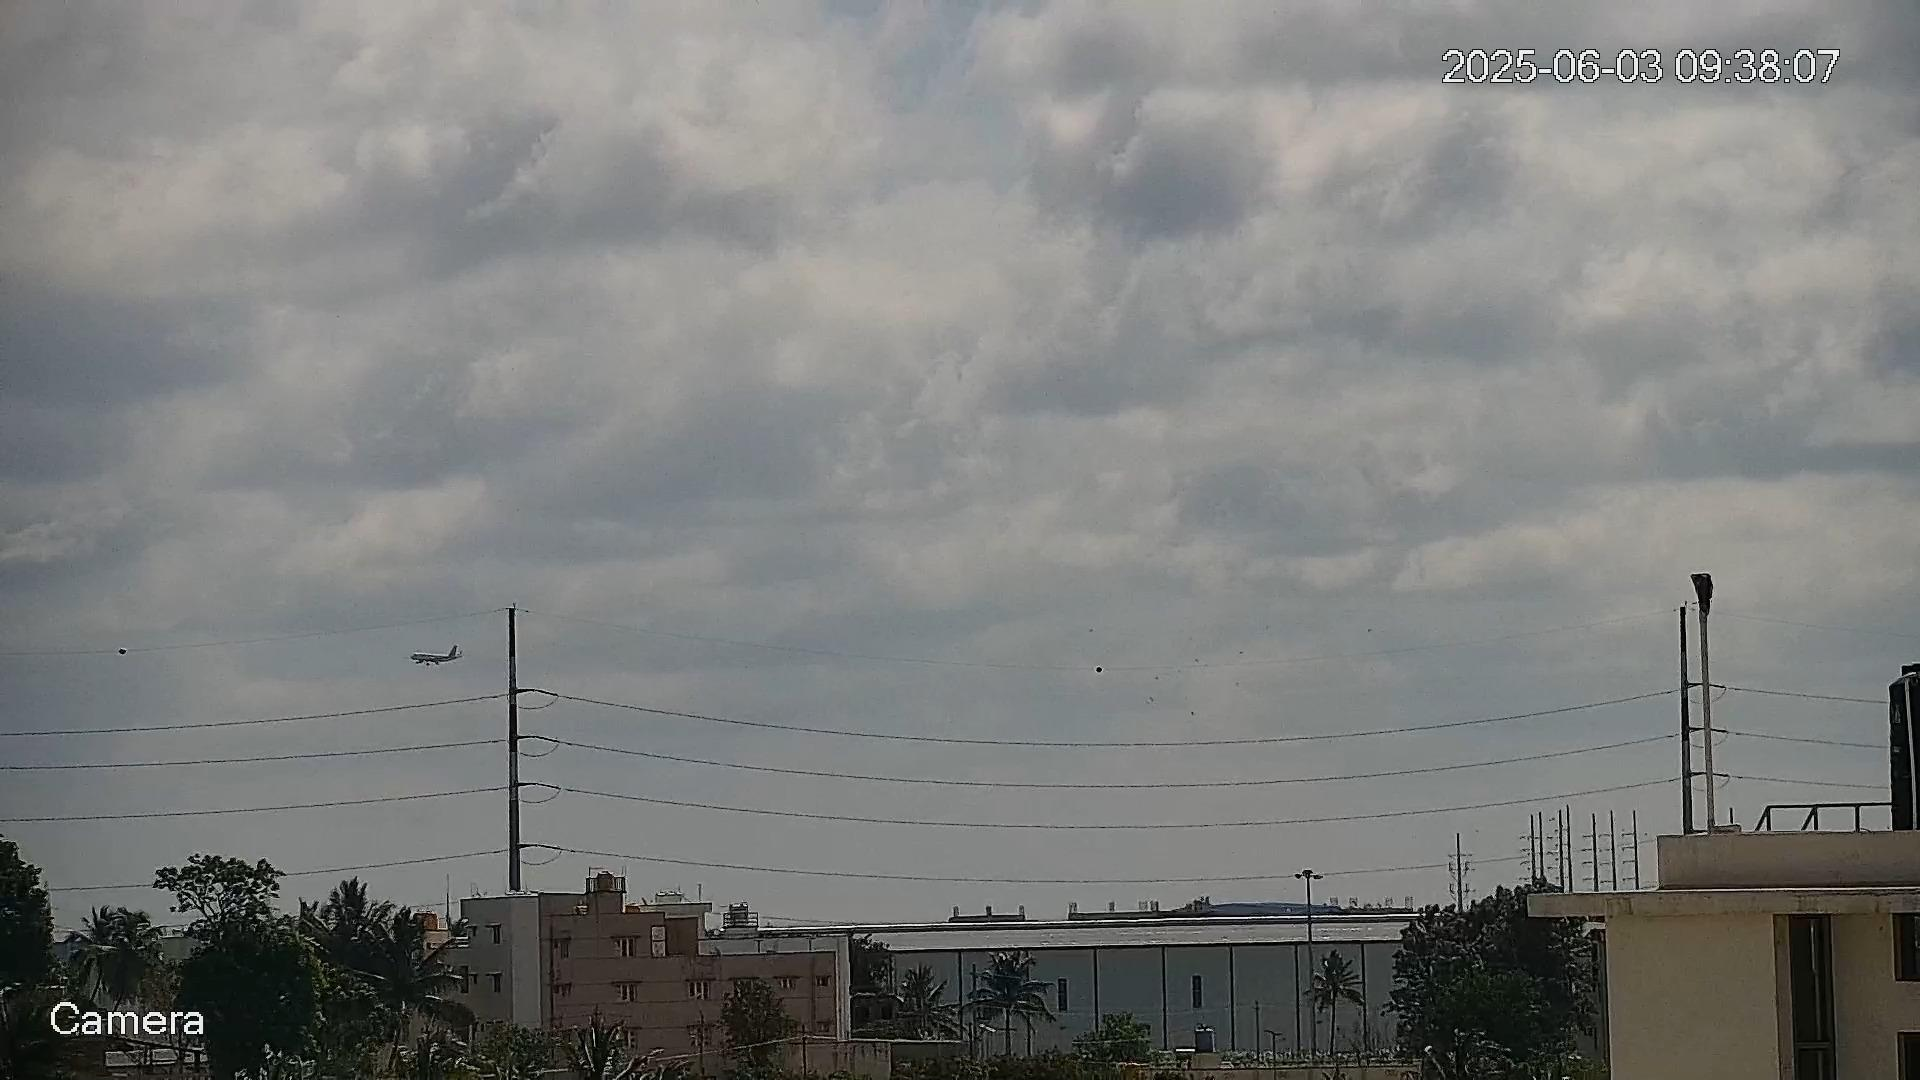Aircraft: (411, 644, 464, 666)
